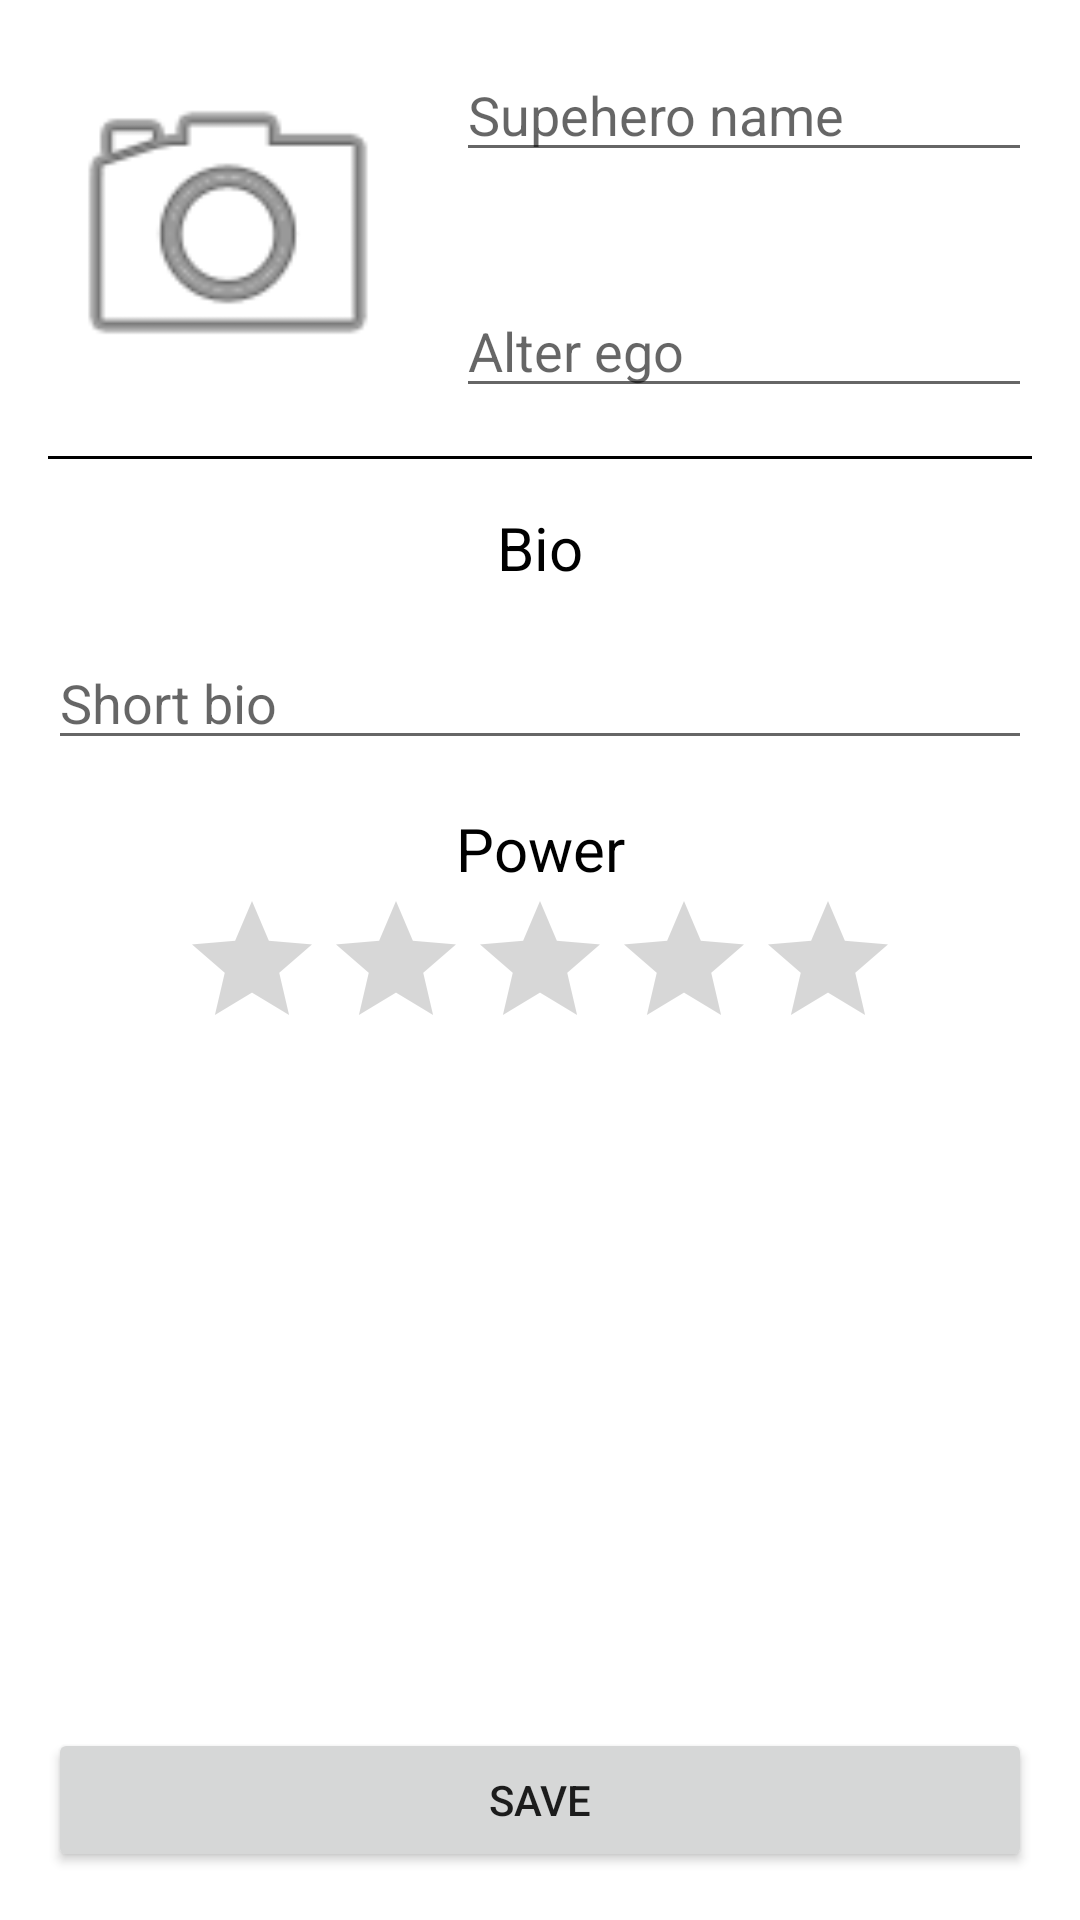

Screen size 1080 × 1920. Icon name, then its center in pixels as [x,y]:
camera: [228,222]
